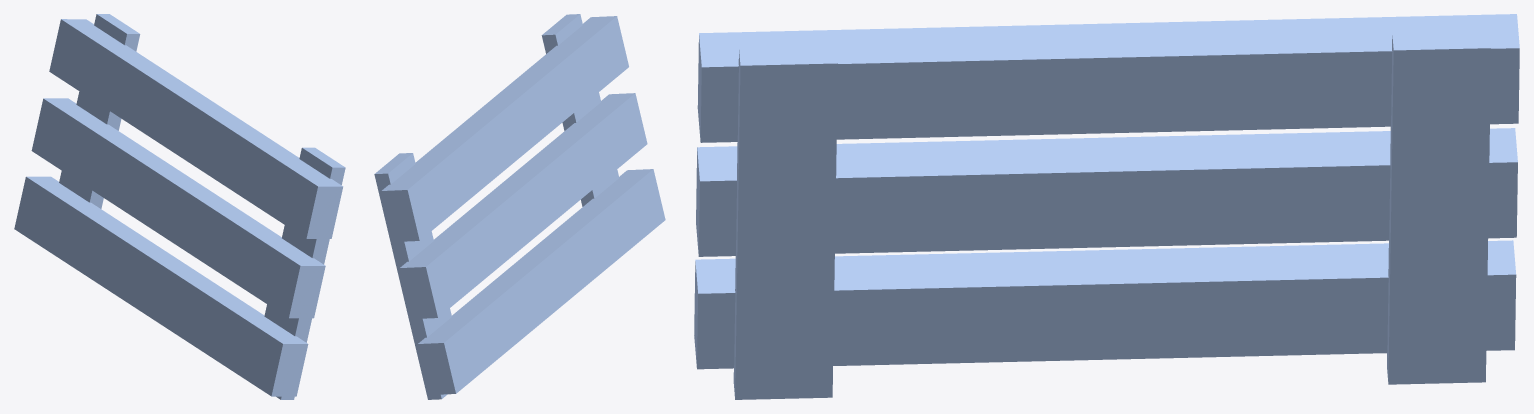
3 views of the same model, side by side, from view 1: azimuth 30°, elevation 25°; view 2: azimuth 150°, elevation 25°; view 3: azimuth 270°, elevation 25° (orthographic). The views are drawn at different scales.
Visible parts, largest first — view 1: OB3_4; view 2: OB3_4; view 3: OB3_4.
Boxes of the visible parts, x1=… form: OB3_4: x1=14, y1=14, x2=345, y2=399; OB3_4: x1=374, y1=14, x2=665, y2=399; OB3_4: x1=694, y1=14, x2=1519, y2=399.
Size of the model in its own units: 0.4792 by 0.9304 by 1.8.
1 material, 1 textured.
